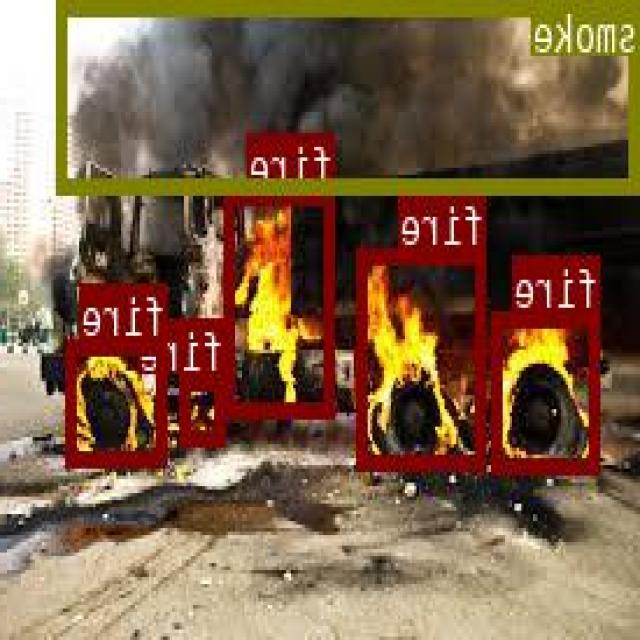fire: (360, 245, 487, 468), (228, 187, 336, 416), (494, 308, 601, 470), (70, 337, 168, 464), (182, 374, 228, 442)
smoke: (58, 0, 640, 189)
